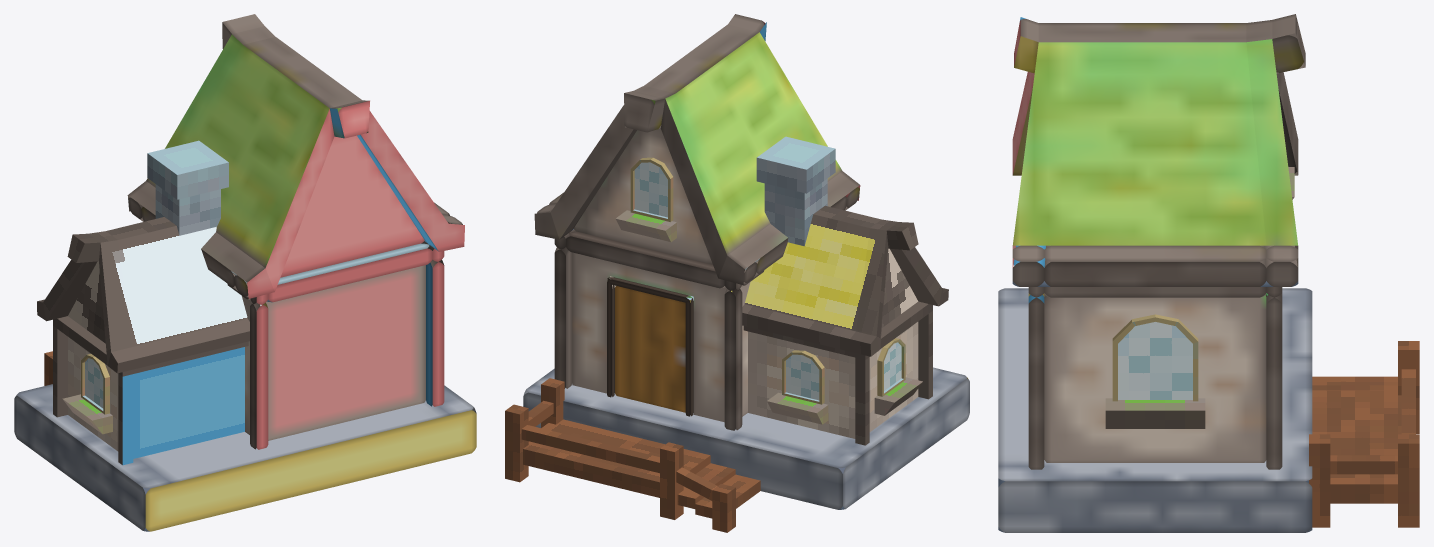
The model's file is House3.fbx.
The picture shows the model from 3 angles, left to right: view 1: azimuth 30°, elevation 25°; view 2: azimuth 150°, elevation 25°; view 3: azimuth 270°, elevation 25°; orthographic projection. The views are drawn at different scales.
Visible parts, largest first — view 1: main house, side house, base, chim, attic window_2, perch_2; view 2: main house, side house, base, stairs, chim, attic window, pole_4, attic window_1, pole_2, pole_1, attic window_2, perch_1 (+5 smaller); view 3: main house, base, stairs, attic window_3, perch_3, pole_1, pole, pole_5, pole_2, pole_4.
Boxes of the visible parts, left/top/right/bottom form: main house: left=127, top=14, right=464, bottom=449; side house: left=37, top=217, right=261, bottom=465; base: left=14, top=384, right=476, bottom=531; chim: left=147, top=140, right=228, bottom=235; attic window_2: left=81, top=354, right=109, bottom=414; perch_2: left=62, top=394, right=112, bottom=434; main house: left=534, top=14, right=860, bottom=430; side house: left=686, top=205, right=948, bottom=445; base: left=523, top=367, right=969, bottom=509; stairs: left=523, top=419, right=760, bottom=518; chim: left=756, top=136, right=835, bottom=246; attic window: left=630, top=157, right=673, bottom=221; pole_4: left=521, top=425, right=659, bottom=473; attic window_1: left=782, top=350, right=824, bottom=404; pole_2: left=660, top=442, right=683, bottom=519; pole_1: left=505, top=404, right=528, bottom=482; attic window_2: left=877, top=338, right=905, bottom=396; perch_1: left=767, top=392, right=828, bottom=424; main house: left=1012, top=14, right=1305, bottom=469; base: left=998, top=288, right=1312, bottom=532; stairs: left=1312, top=376, right=1401, bottom=503; attic window_3: left=1112, top=314, right=1198, bottom=401; perch_3: left=1105, top=398, right=1205, bottom=428; pole_1: left=1398, top=434, right=1419, bottom=527; pole: left=1309, top=434, right=1330, bottom=527; pole_5: left=1330, top=455, right=1397, bottom=474; pole_2: left=1398, top=341, right=1419, bottom=433; pole_4: left=1401, top=369, right=1415, bottom=434.
Size of the model in its own units: 205 by 219 by 184.
6 materials, 6 textured.
